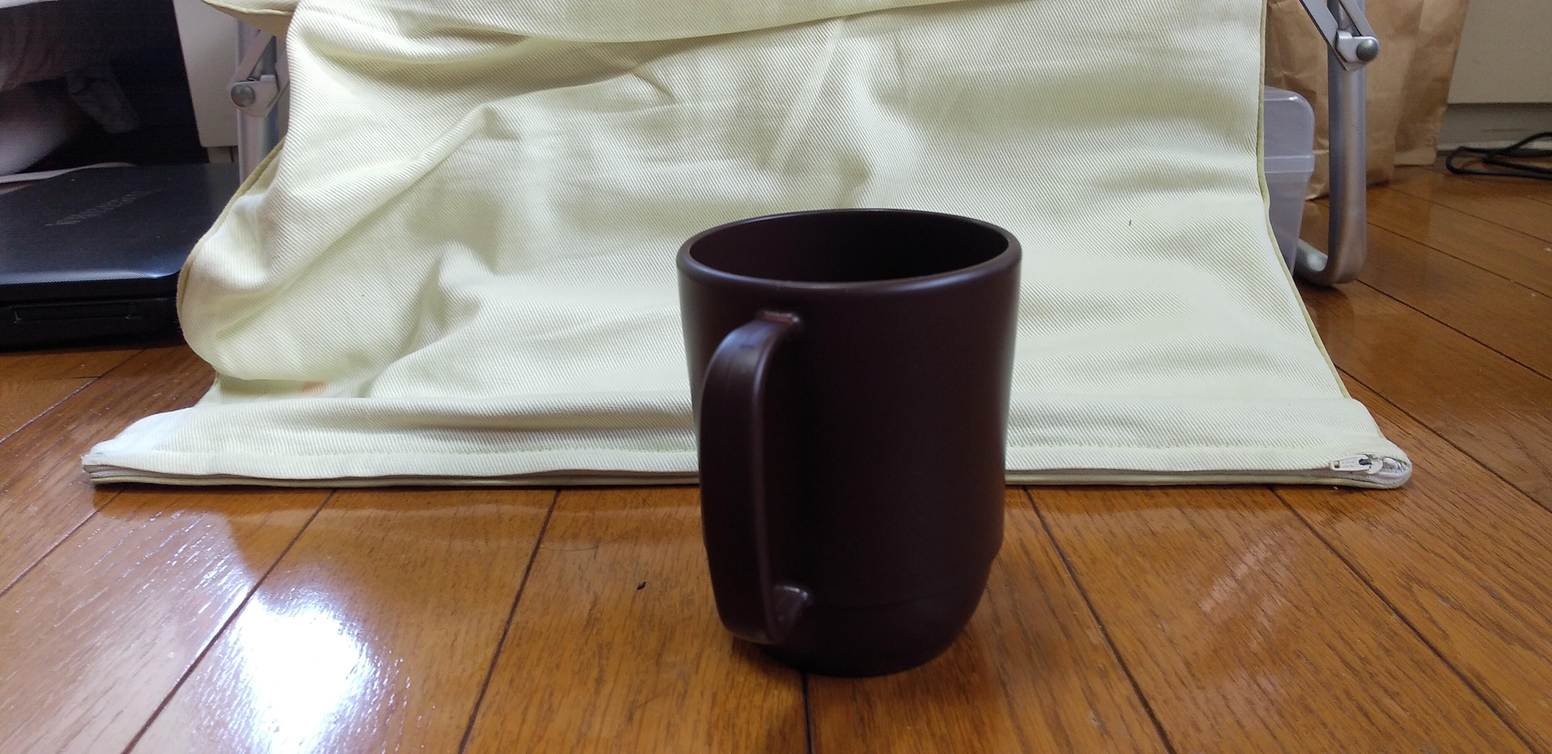mug-real100-3d100: (677, 210, 1020, 676)
